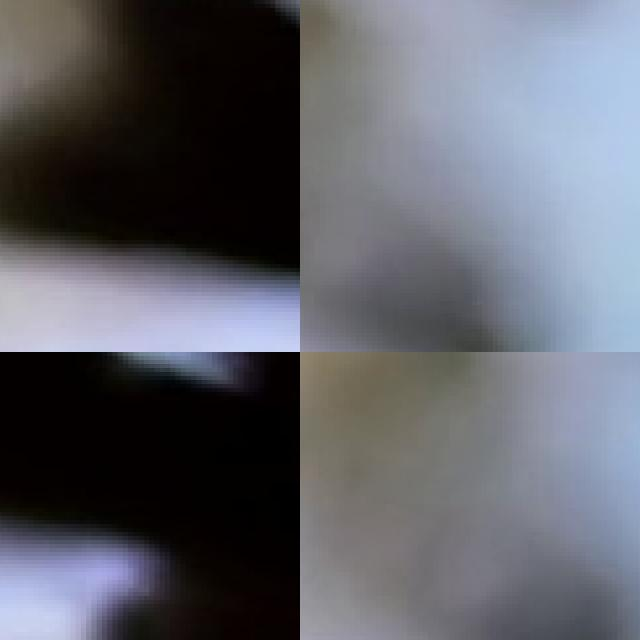fish: (0, 0, 300, 352), (0, 352, 300, 640)
